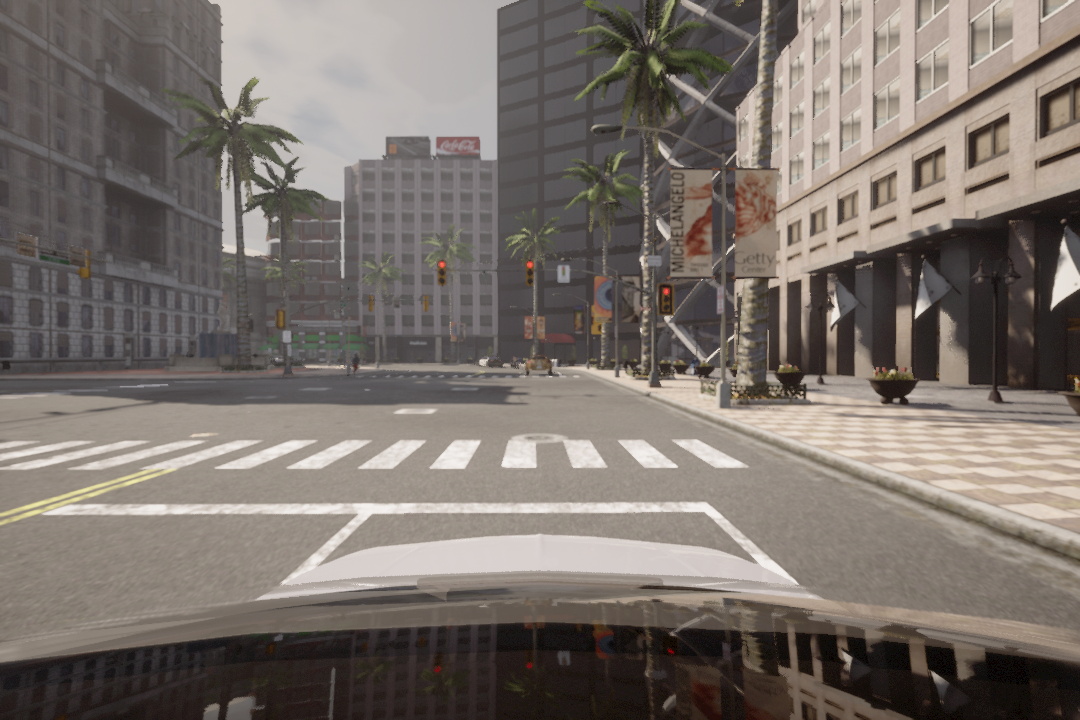TrafficLight: (656, 284, 676, 315), (433, 258, 448, 285), (524, 259, 535, 286)
walkside: (9, 437, 756, 475)
